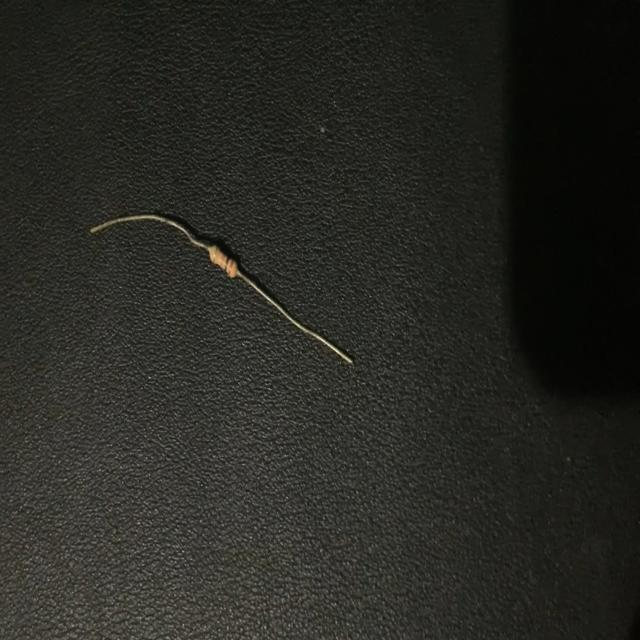resistor: (90, 214, 354, 362)
